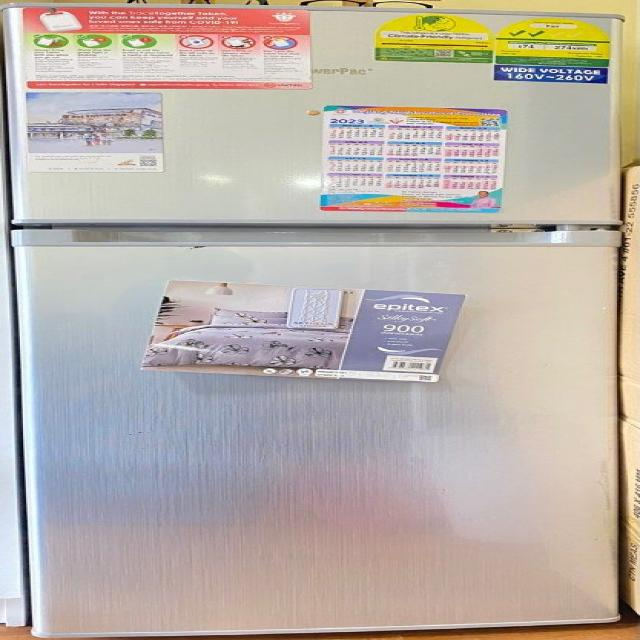refrigerator: (4, 5, 634, 638)
